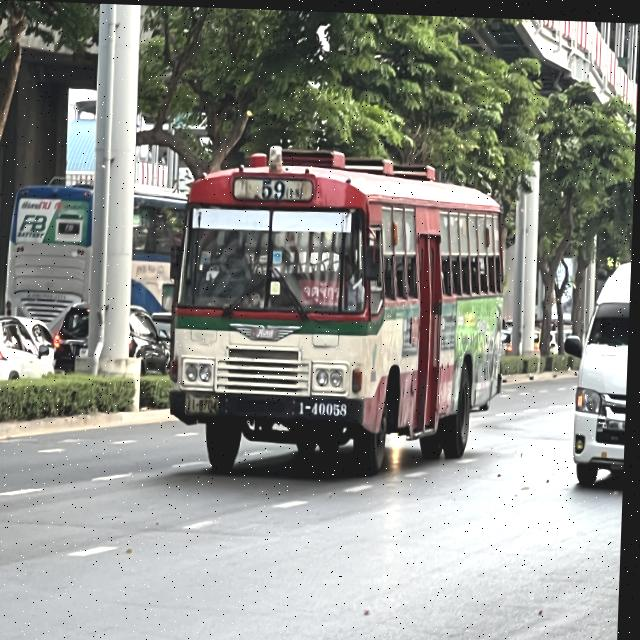BMTA-bus: (164, 135, 512, 490)
Bus-Line-Number: (236, 174, 316, 200)
Destination-Sign-Extra-Bus: (298, 278, 351, 311)
